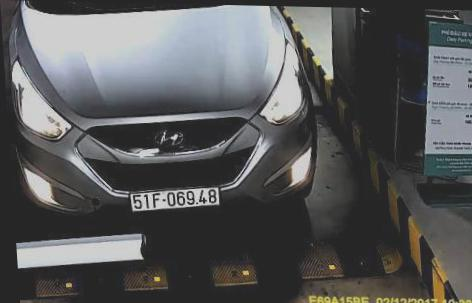License_Plate: (124, 186, 226, 211)
